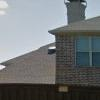Chimney: (58, 1, 94, 30)
